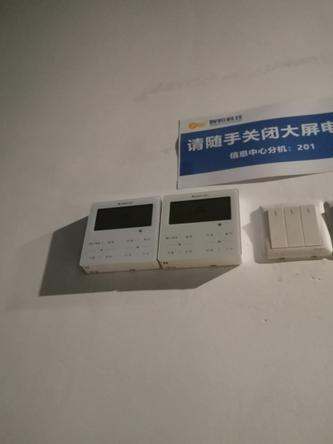switch: (299, 201, 323, 247), (284, 203, 307, 247), (267, 204, 287, 254)
